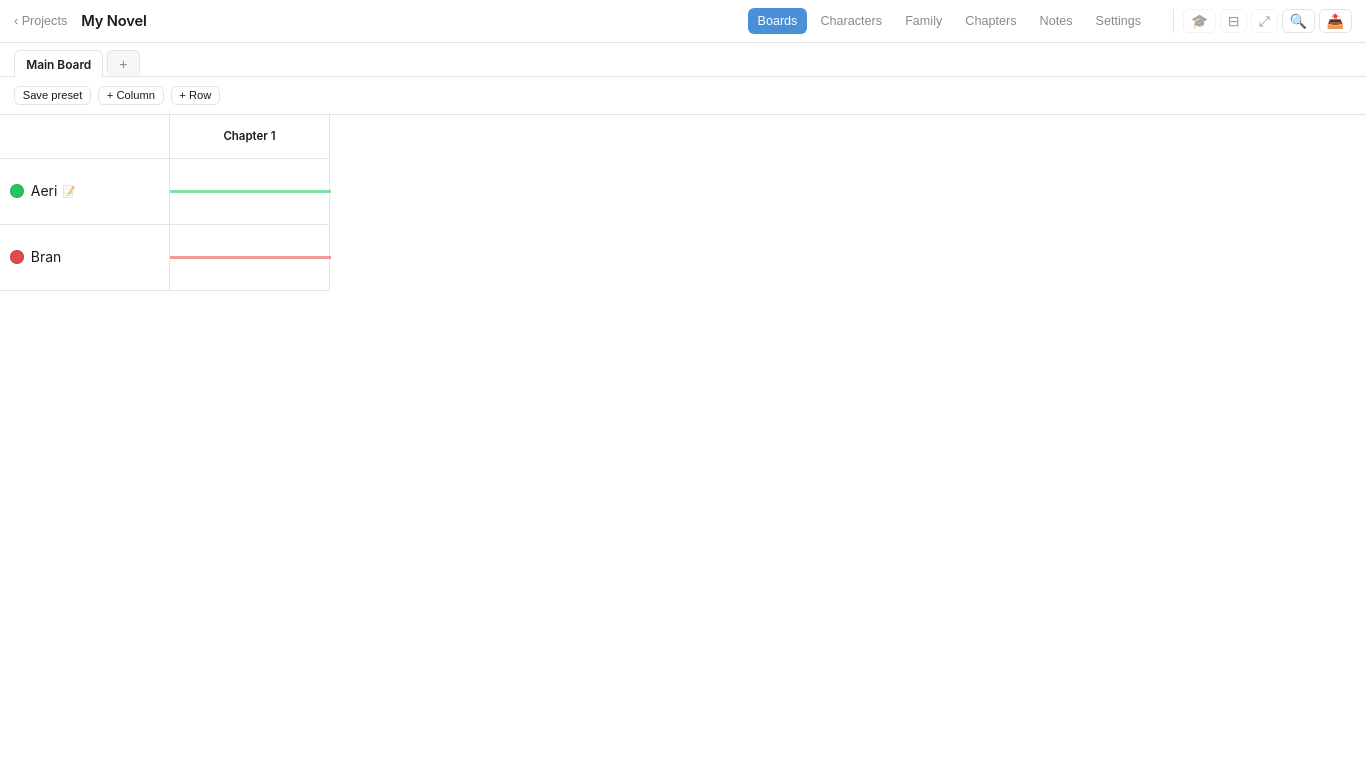
Test: the board’s character note popup › previews the note, read-only, and closes on Escape
Expected: the heading "My Novel" is shown, 81,12 -> 147,30
Expected: the text "Bran" is shown, 31,248 -> 61,266
Step 1. Click the button titled "Read Aeri’s note" → (92, 191), box 31,182 -> 154,200
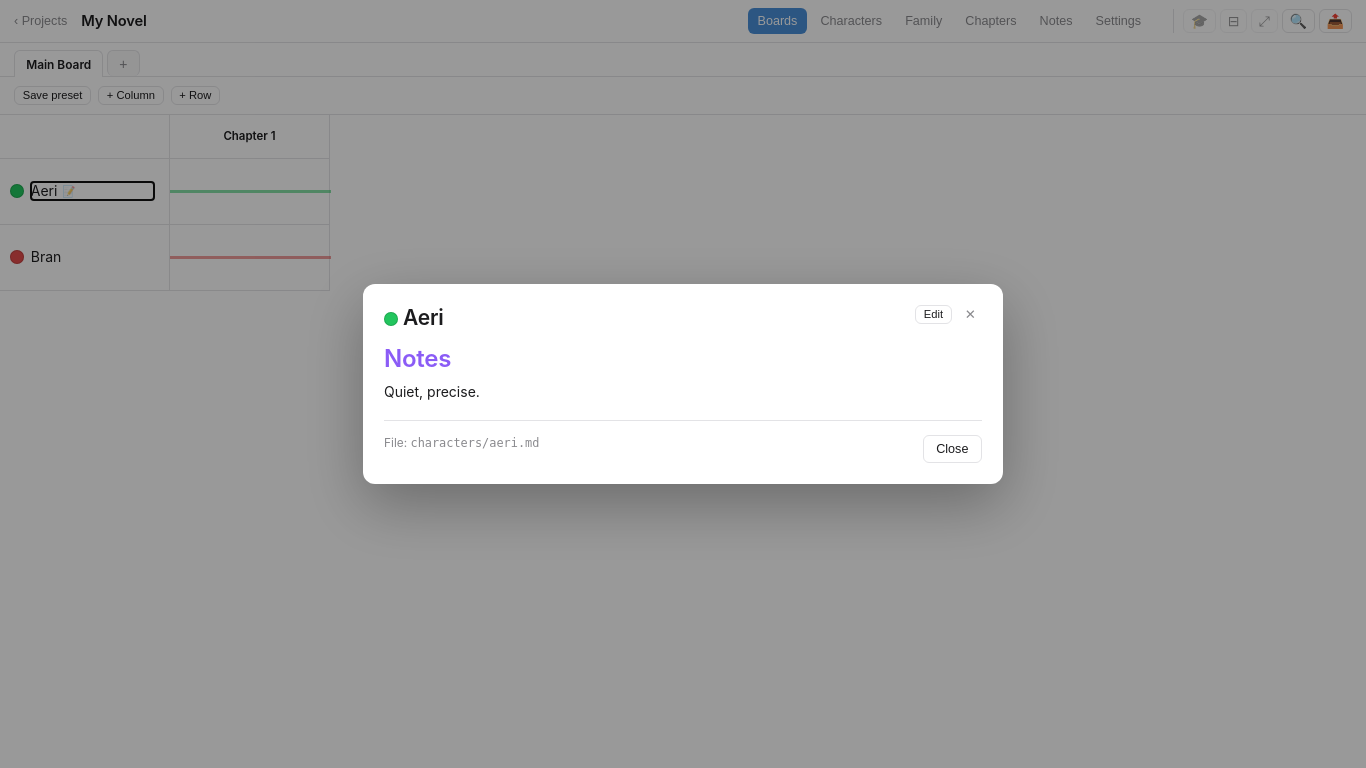
Now the text "Quiet, precise." is shown, box 384,383 -> 480,400
Step 2. Press Escape
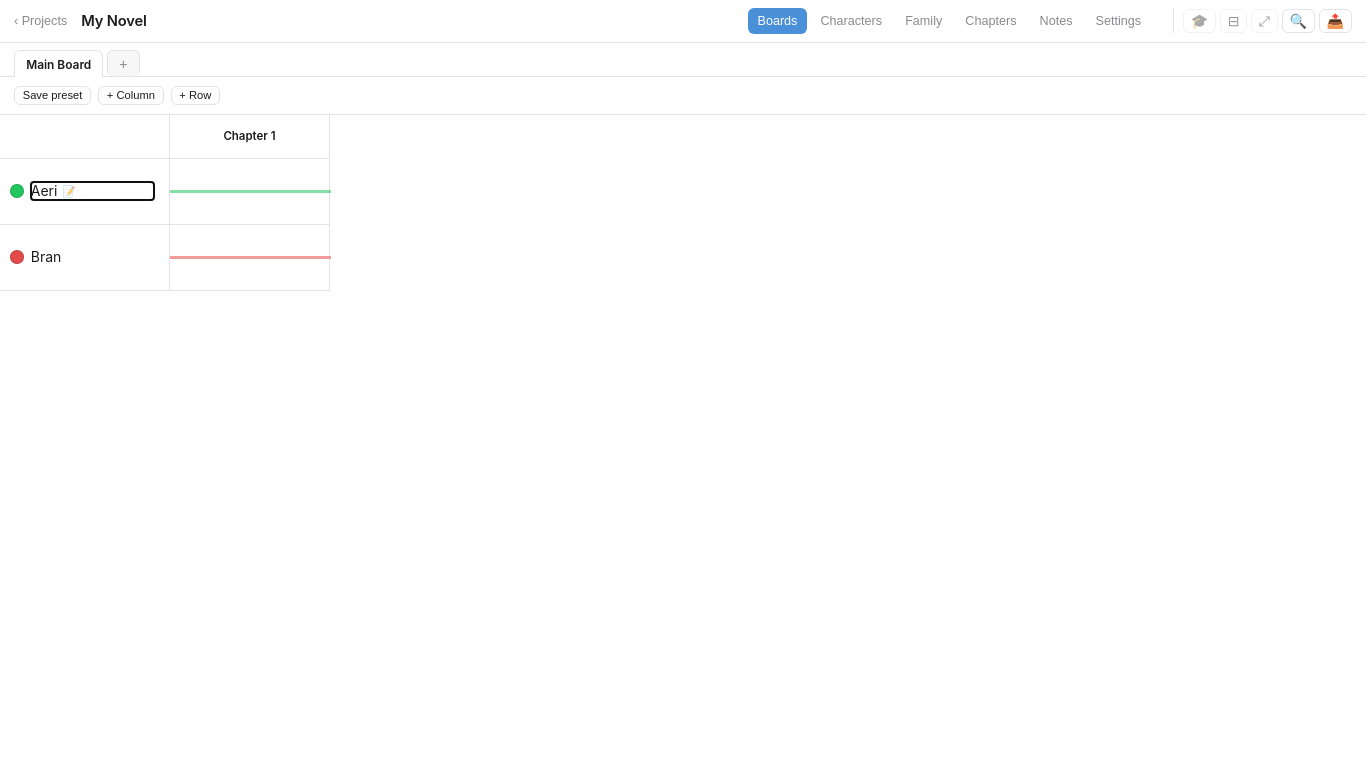
Now the text "Quiet, precise." is gone
